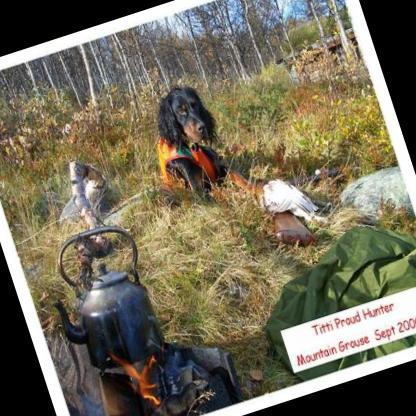Gordon_setter: (138, 75, 238, 206)
